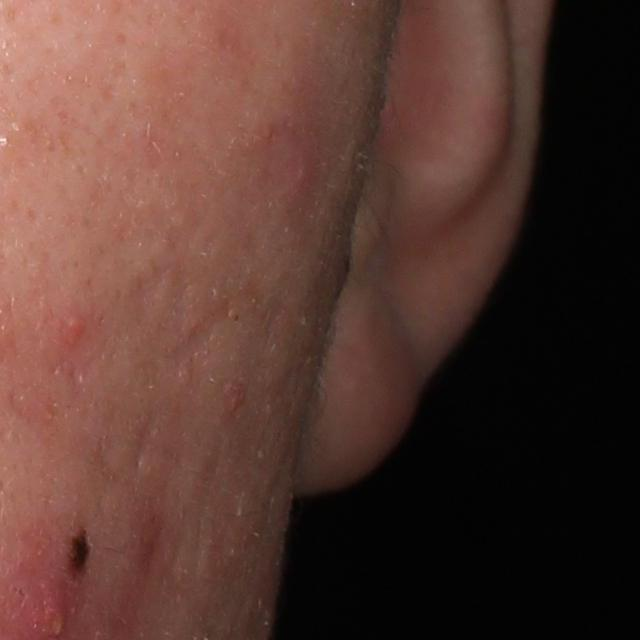atrophic_scar: (161, 313, 227, 372), (133, 413, 167, 473)
nevus: (60, 523, 98, 583)
papule: (56, 305, 94, 344), (219, 380, 249, 420)
